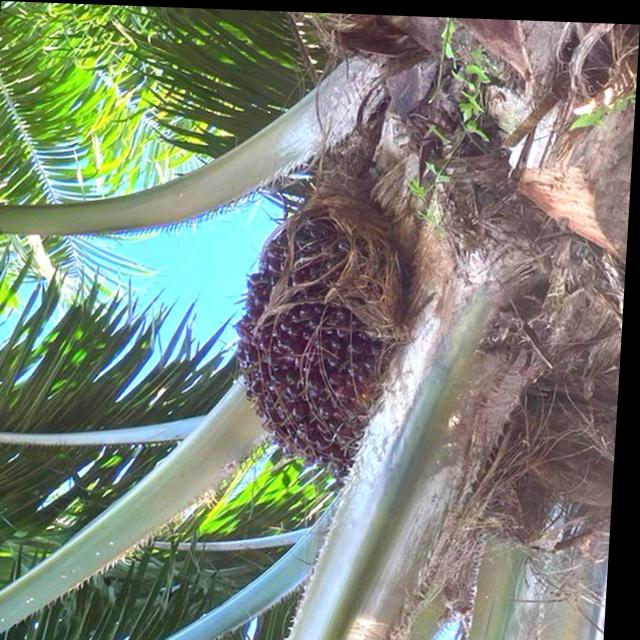ripe: (243, 217, 399, 471)
